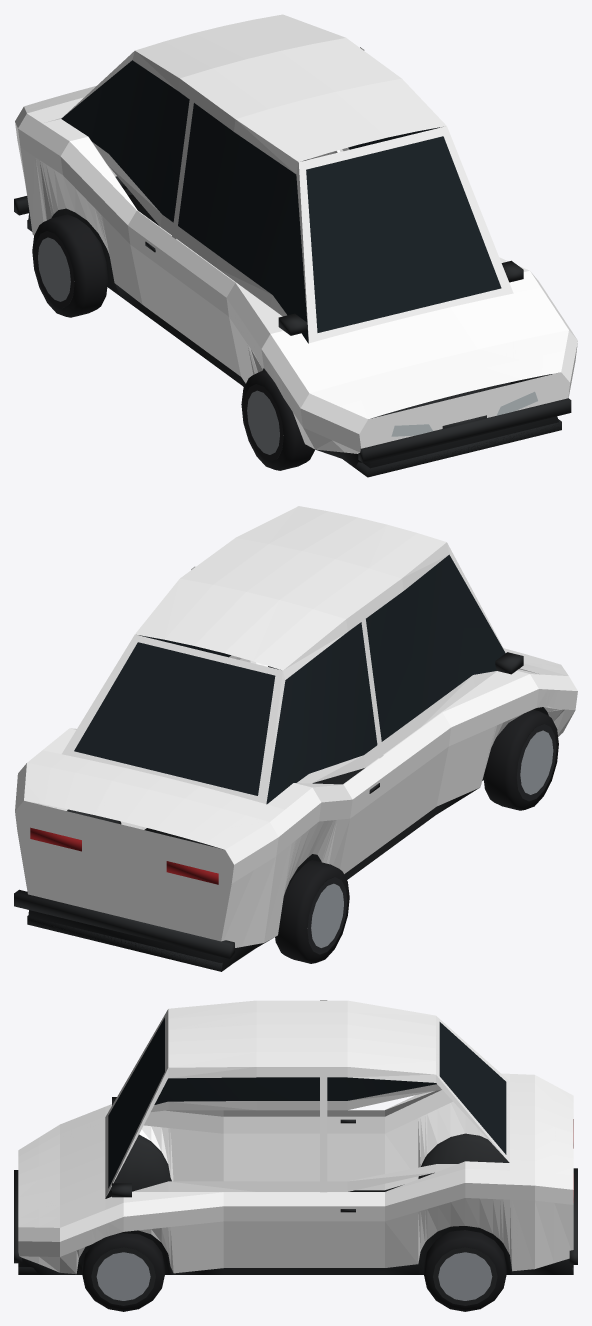
File: morel_feno.glb
3 views of the same model, one above another, from view 1: azimuth 30°, elevation 25°; view 2: azimuth 150°, elevation 25°; view 3: azimuth 270°, elevation 25° (orthographic). The views are drawn at different scales.
Visible parts, largest first — view 1: Body_Paint, Body_Details, Mount_RearLeft_Wheel_Details, Mount_FrontLeft_Wheel_Details; view 2: Body_Paint, Body_Details, Mount_RearLeft_Wheel_Details, Mount_FrontLeft_Wheel_Details; view 3: Body_Paint, Body_Details, Mount_RearRight_Wheel_Details, Mount_FrontRight_Wheel_Details.
Boxes of the visible parts, x1=… form: Body_Paint: x1=15, y1=14, x2=577, y2=453; Body_Details: x1=14, y1=60, x2=571, y2=477; Mount_RearLeft_Wheel_Details: x1=32, y1=214, x2=107, y2=317; Mount_FrontLeft_Wheel_Details: x1=241, y1=370, x2=314, y2=470; Body_Paint: x1=15, y1=506, x2=577, y2=947; Body_Details: x1=14, y1=554, x2=548, y2=971; Mount_RearLeft_Wheel_Details: x1=275, y1=860, x2=349, y2=963; Mount_FrontLeft_Wheel_Details: x1=483, y1=709, x2=558, y2=810; Body_Paint: x1=18, y1=1000, x2=573, y2=1274; Body_Details: x1=14, y1=1017, x2=577, y2=1274; Mount_RearRight_Wheel_Details: x1=423, y1=1230, x2=506, y2=1311; Mount_FrontRight_Wheel_Details: x1=82, y1=1233, x2=165, y2=1311.
Size of the model in its own units: 1.7 by 1.64 by 3.66.
2 materials, 1 textured.
